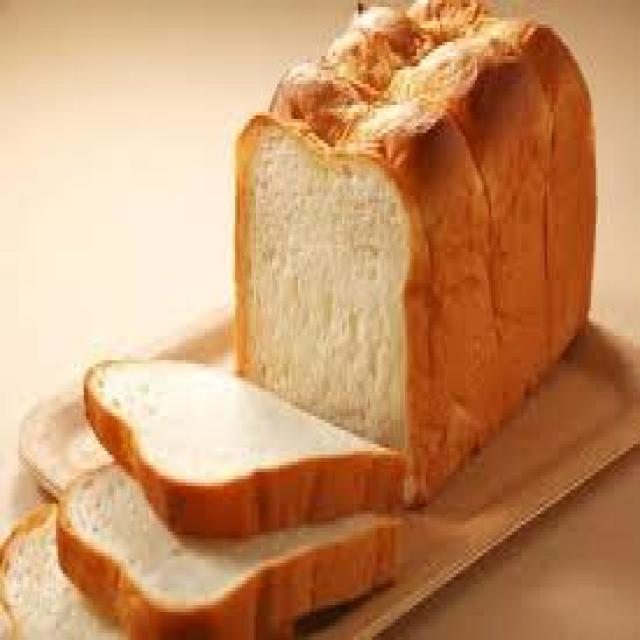food_waste: (8, 3, 600, 640)
